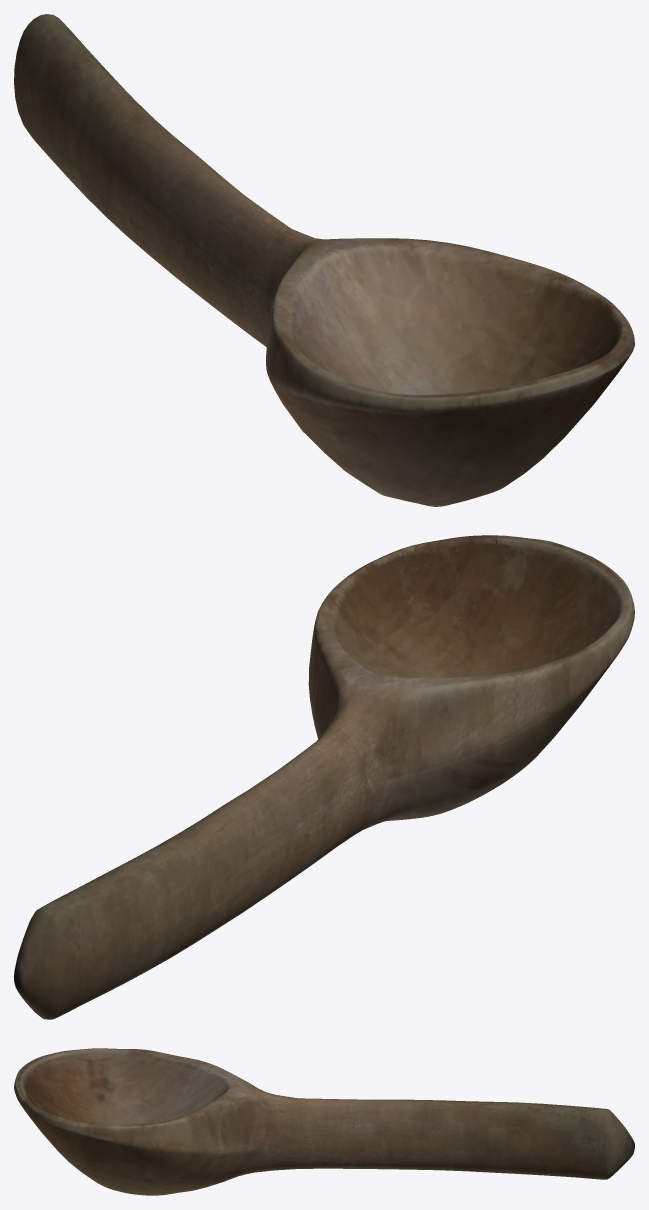
The model's file is wooden_spoon.glb.
3 views of the same model, one above another, from view 1: azimuth 30°, elevation 25°; view 2: azimuth 150°, elevation 25°; view 3: azimuth 270°, elevation 25° (orthographic). The views are drawn at different scales.
Visible parts, largest first — view 1: wooden_spoon.002; view 2: wooden_spoon.002; view 3: wooden_spoon.002.
Boxes of the visible parts, left/top/right/bottom form: wooden_spoon.002: left=14, top=14, right=634, bottom=506; wooden_spoon.002: left=14, top=535, right=634, bottom=1019; wooden_spoon.002: left=14, top=1048, right=634, bottom=1195.
Size of the model in its own units: 2.01 by 1.24 by 6.43.
1 material, 1 textured.
